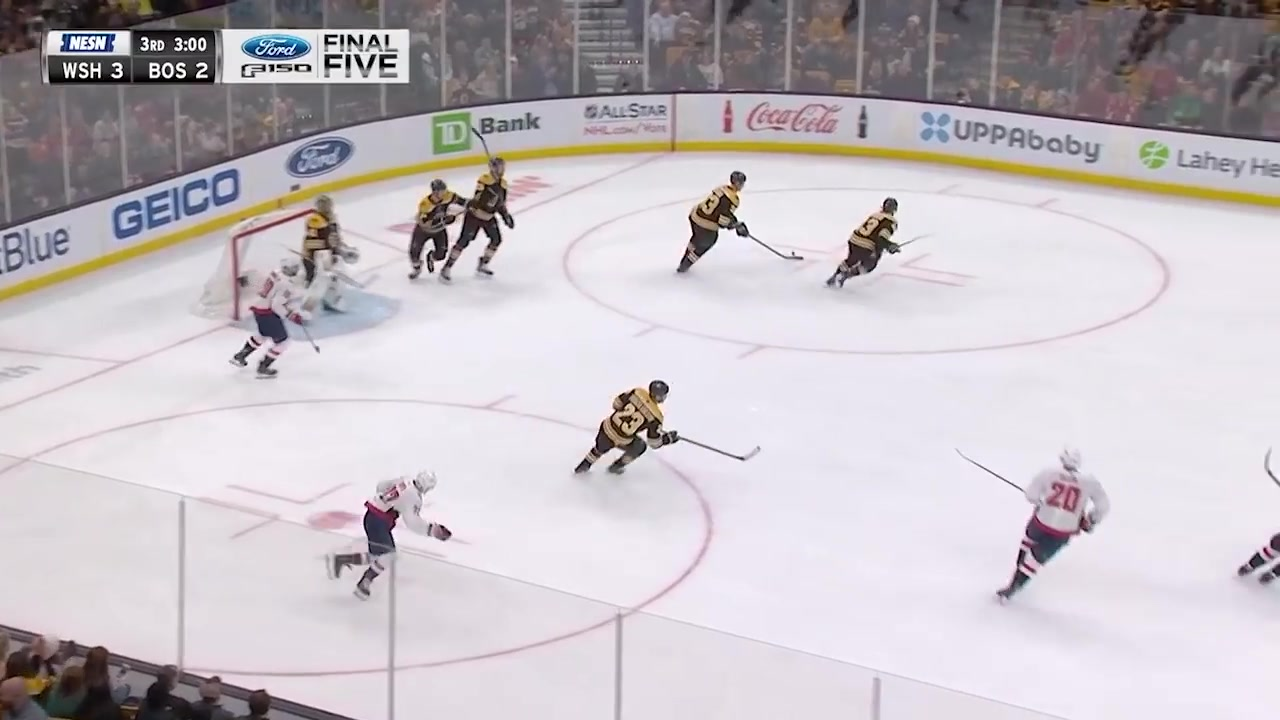geico: (101, 162, 252, 243)
